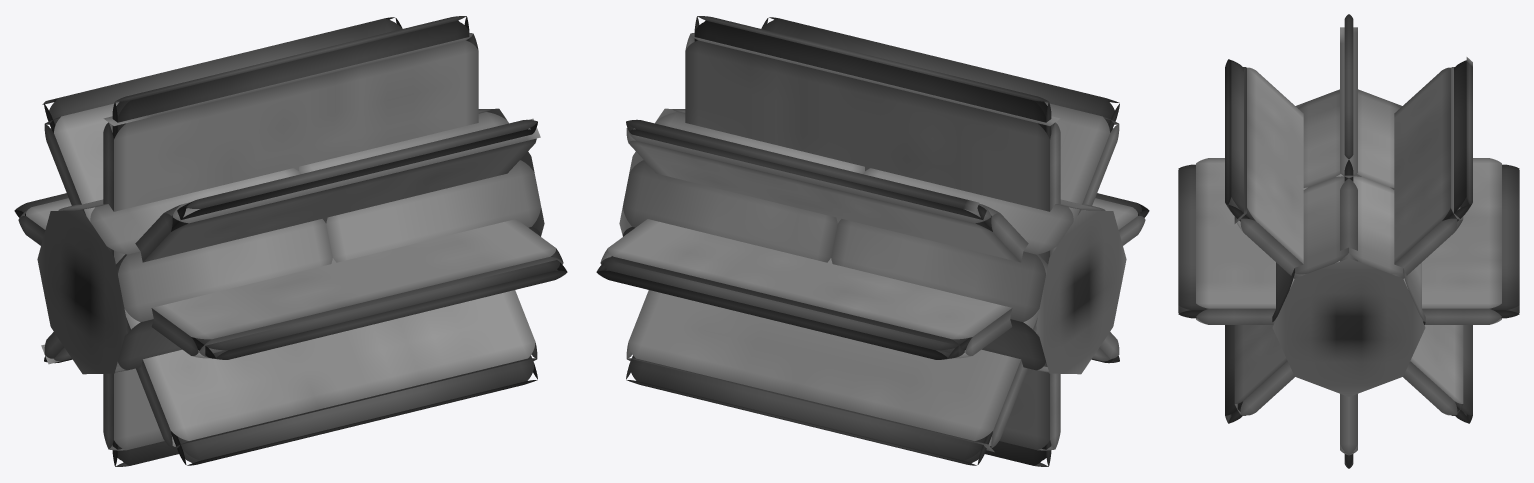
File: low_pressure_steam_condenser.obj
3 views of the same model, side by side, from view 1: azimuth 30°, elevation 25°; view 2: azimuth 150°, elevation 25°; view 3: azimuth 270°, elevation 25° (orthographic). The views are drawn at different scales.
Visible parts, largest first — view 1: mesh; view 2: mesh; view 3: mesh.
Part boxes in pixels (box(x1,y1,x2,y2)): mesh: box(14, 16, 567, 466); mesh: box(596, 16, 1149, 466); mesh: box(1178, 14, 1519, 468).
Bounding box in the file's own units: 1 × 0.8375 × 0.8375.
